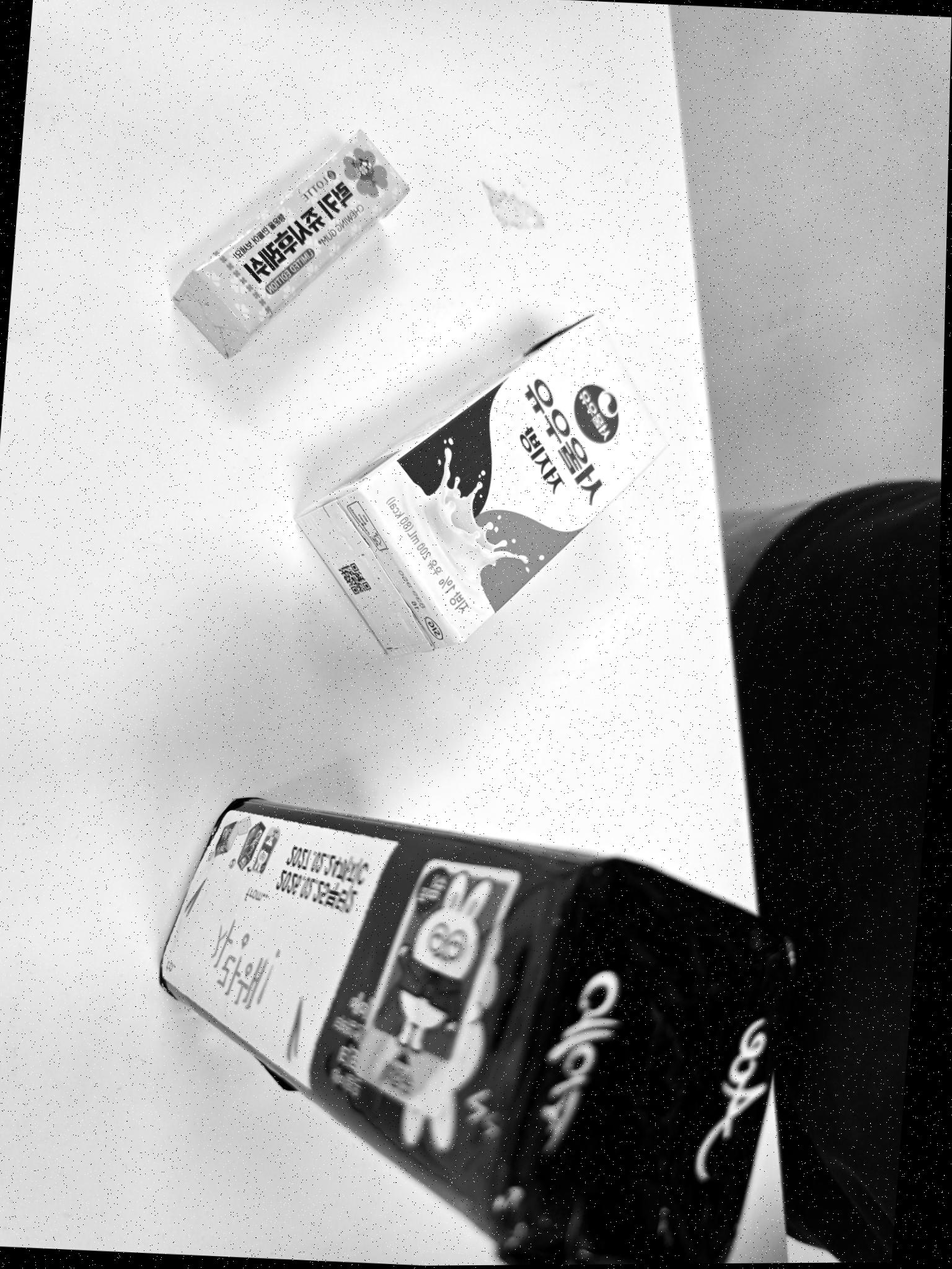cracker_ace: (161, 799, 794, 1265)
gum_yellow: (175, 130, 409, 357)
milk_blue: (297, 316, 664, 655)
